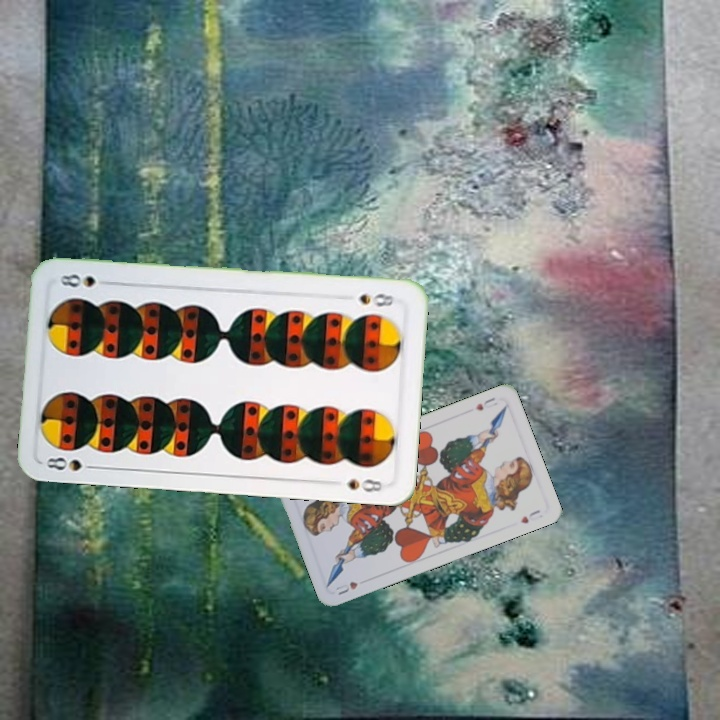HU: (331, 577, 361, 598), (471, 393, 498, 413)
S8: (43, 453, 100, 474), (355, 289, 397, 309)
